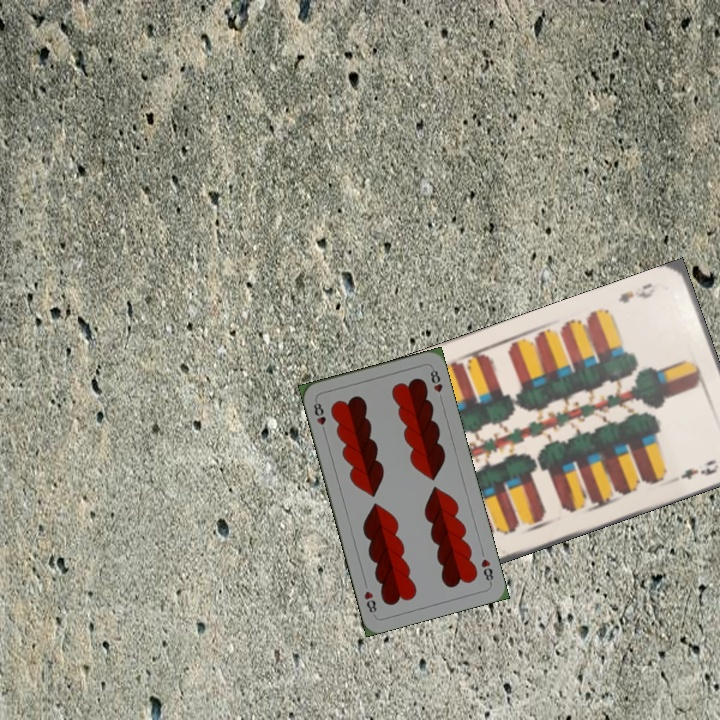E9: (615, 279, 665, 306)
H8: (309, 396, 328, 436), (477, 555, 496, 586)
